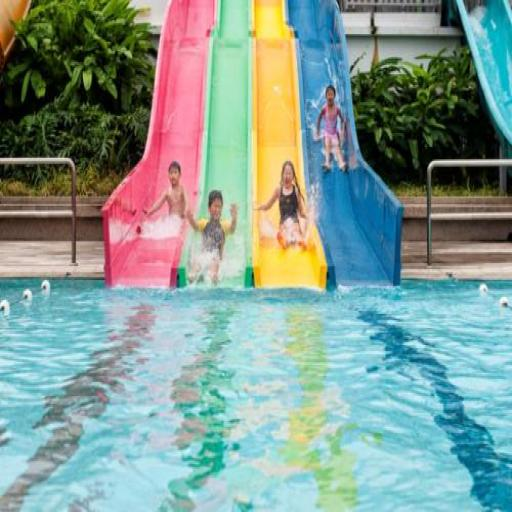swimming: (252, 158, 313, 255), (183, 187, 240, 289), (133, 158, 190, 244), (312, 82, 350, 176)
